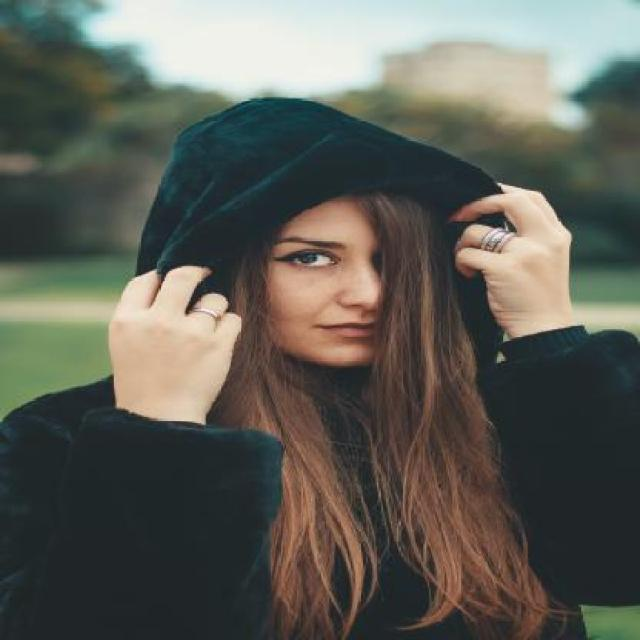closed-mouth: (316, 321, 375, 339)
